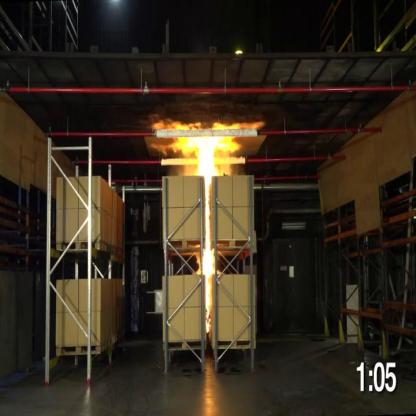fire: (152, 121, 261, 176), (197, 178, 218, 336)
